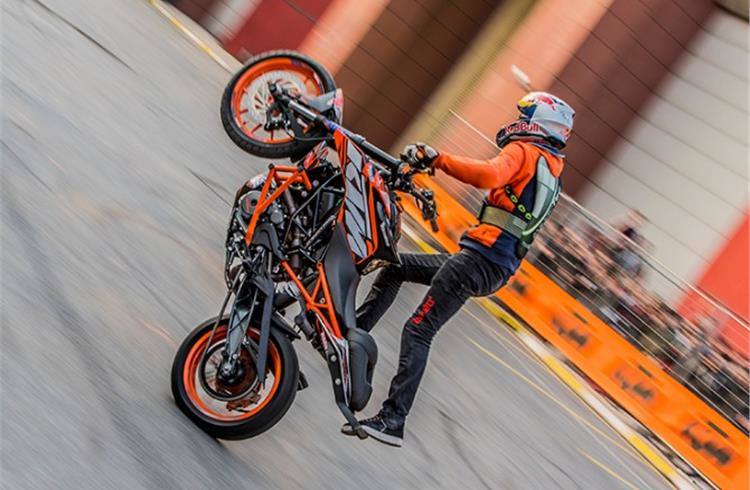bike: (167, 47, 441, 444)
